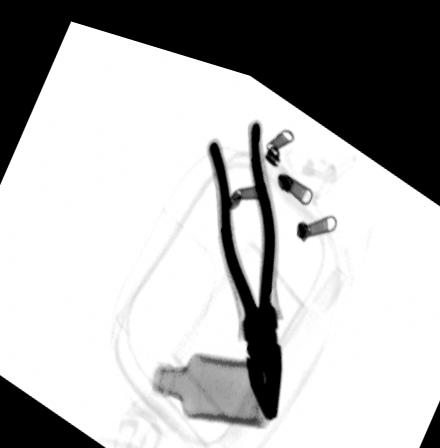Pliers: (204, 103, 286, 405)
